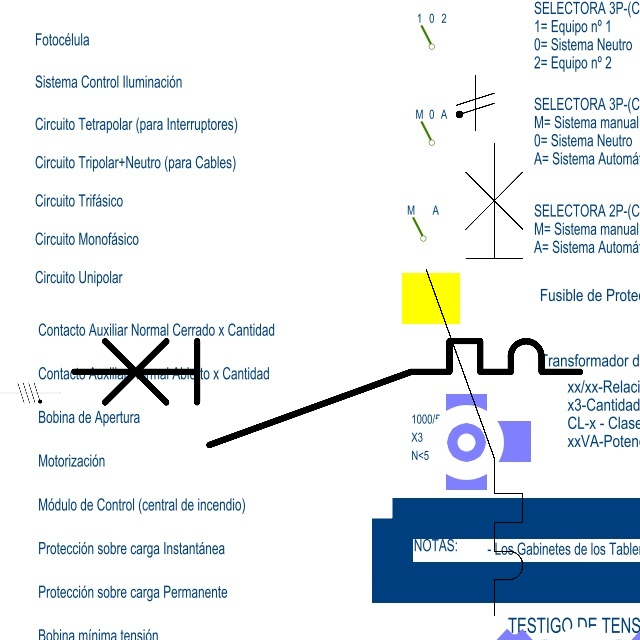interruptor_termomagnetico: (61, 328, 593, 458), (414, 131, 535, 627)
